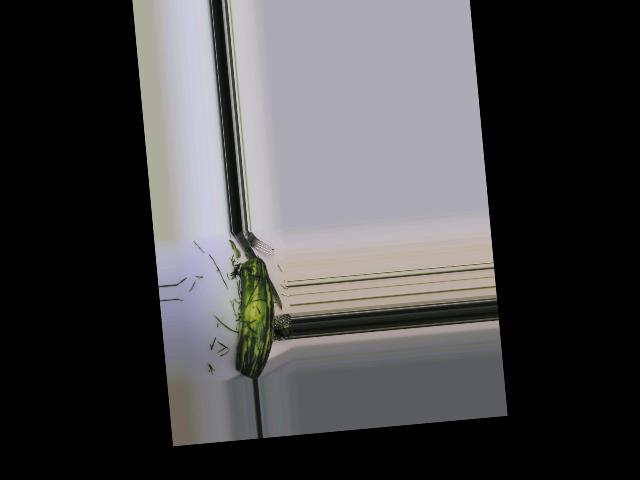cucumber: (225, 256, 279, 379)
